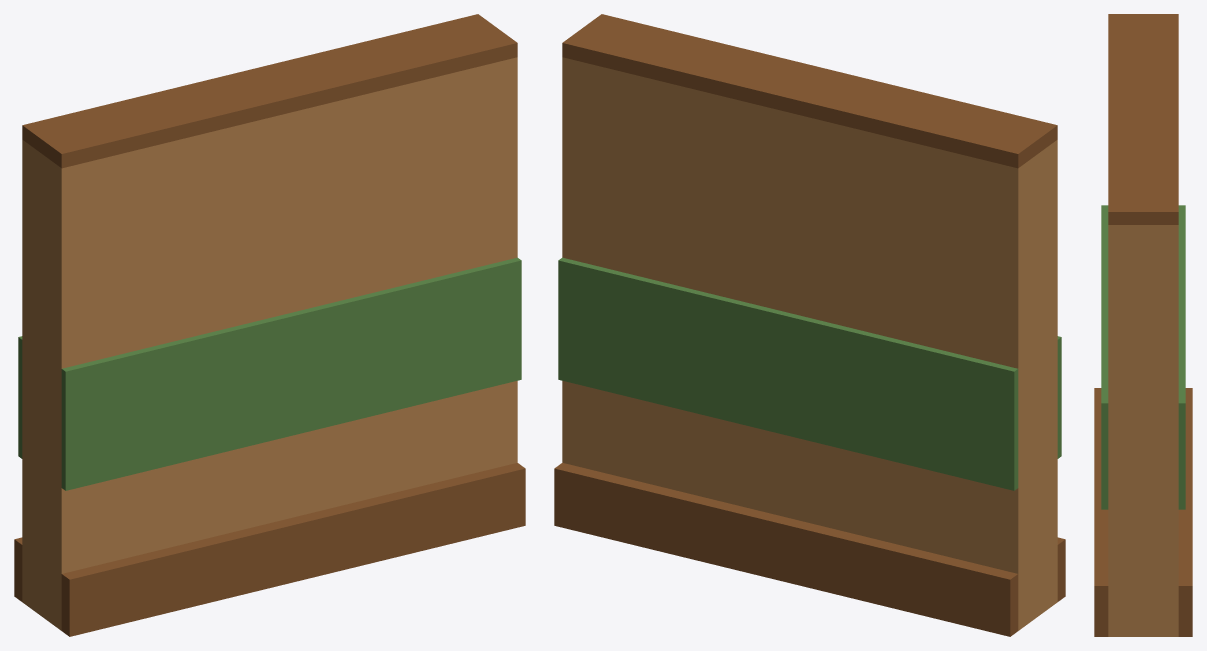
The model's file is partition-full.glb.
The picture shows the model from 3 angles, left to right: view 1: azimuth 30°, elevation 25°; view 2: azimuth 150°, elevation 25°; view 3: azimuth 270°, elevation 25°; orthographic projection. The views are drawn at different scales.
Parts seen in each view (by area): view 1: partition-full; view 2: partition-full; view 3: partition-full.
Boxes of the visible parts, left/top/right/bottom form: partition-full: left=14, top=14, right=525, bottom=636; partition-full: left=554, top=14, right=1065, bottom=636; partition-full: left=1094, top=14, right=1192, bottom=636.
Bounding box in the file's own units: 1 × 1 × 0.21.
1 material, 1 textured.
